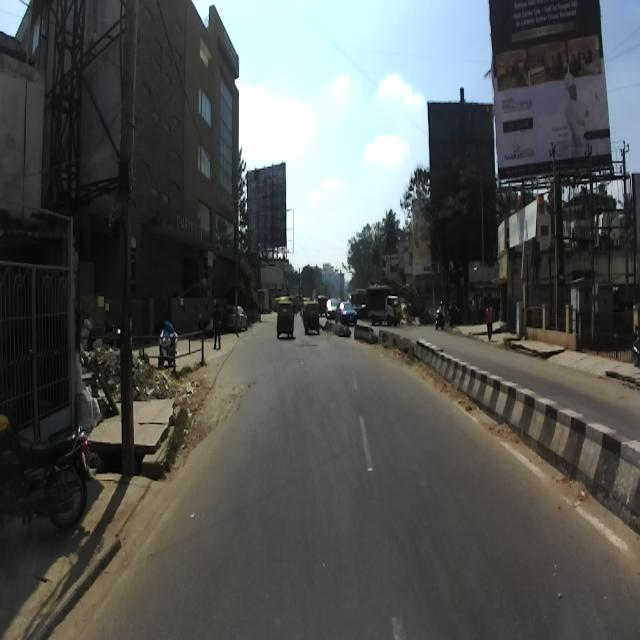electric pole ahead at: (112, 8, 150, 481)
motorcycle ahead at: (0, 409, 98, 545)
